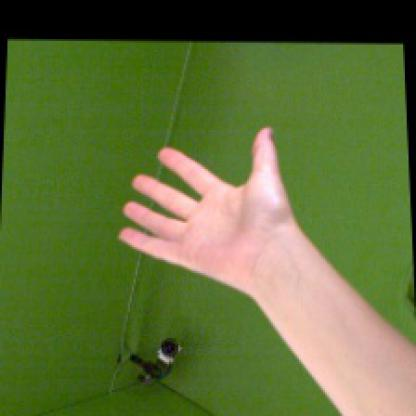Hand: (118, 127, 290, 285)
